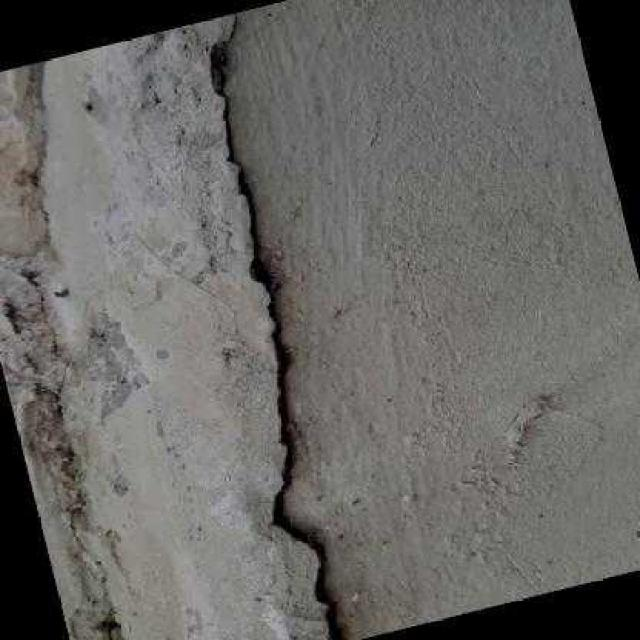D00: (211, 11, 345, 640)
